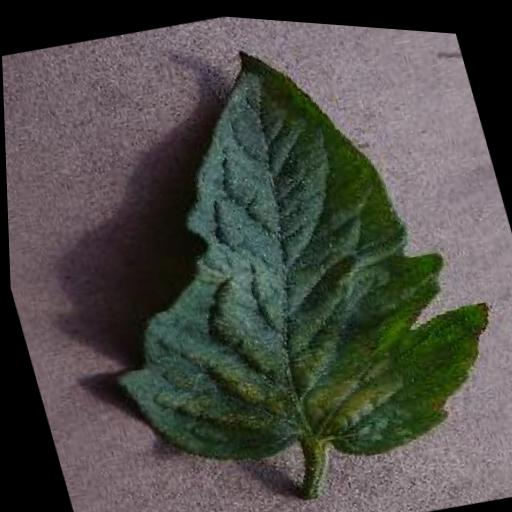Spider Mites: (28, 2, 512, 512)
